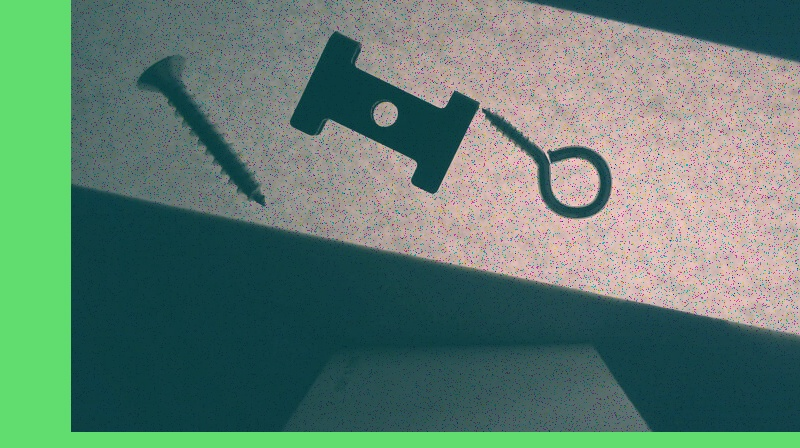O001: (482, 107, 613, 220)
O002: (289, 32, 480, 194)
S001: (134, 53, 270, 208)
